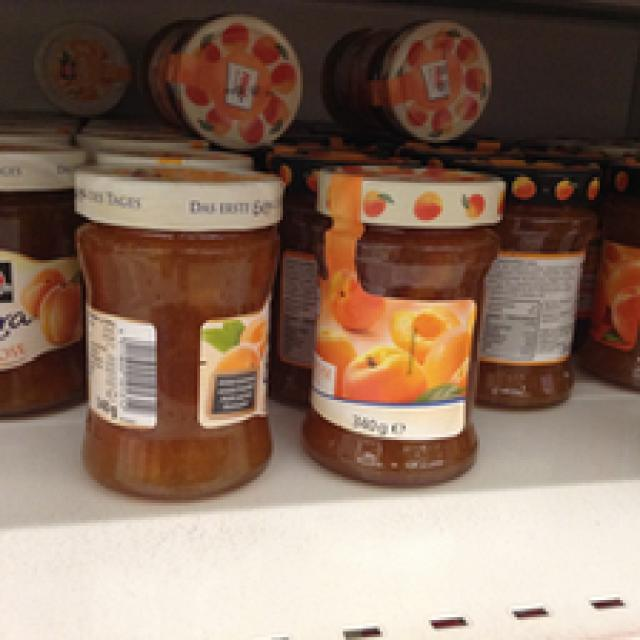groceries: (68, 157, 286, 500), (300, 163, 506, 488), (474, 157, 597, 409), (314, 20, 489, 137), (140, 14, 297, 143)
